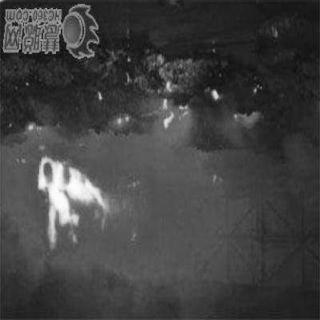Smoke: (10, 133, 282, 305)
